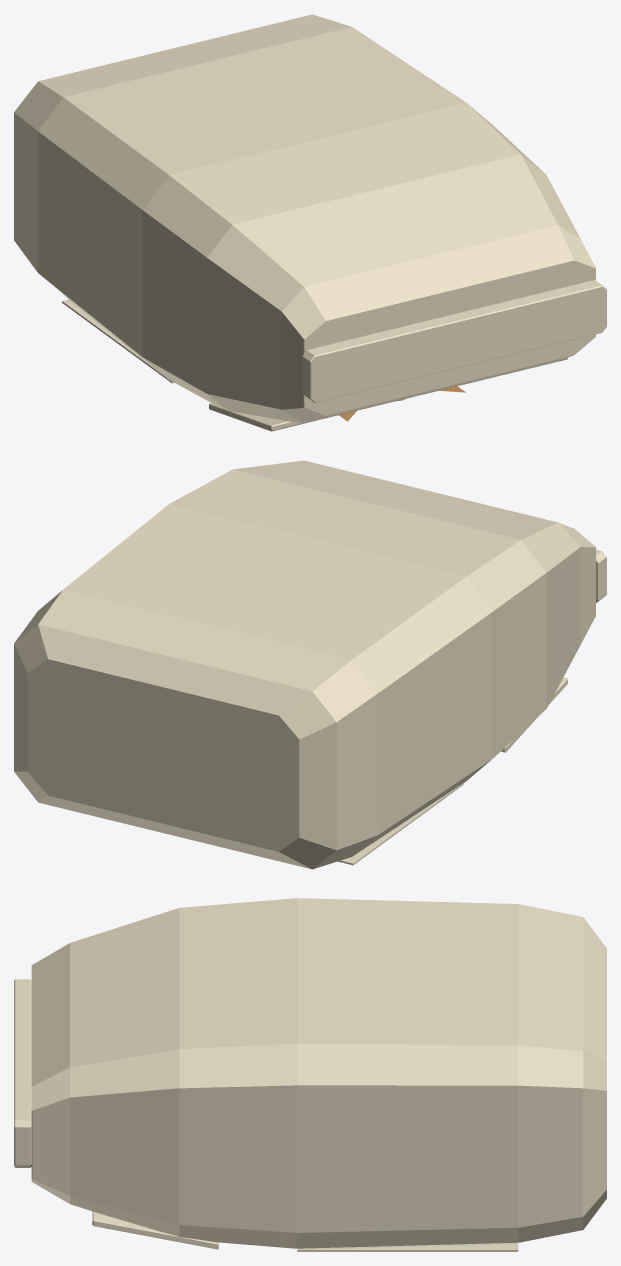
File: caramels.glb
The picture shows the model from 3 angles, top to bottom: view 1: azimuth 30°, elevation 25°; view 2: azimuth 150°, elevation 25°; view 3: azimuth 270°, elevation 25°; orthographic projection.
Visible parts, largest first — view 1: caramels; view 2: caramels; view 3: caramels.
Boxes of the visible parts, x1,y1,x2,y2 form: caramels: (14,14,606,431); caramels: (14,460,606,869); caramels: (14,898,606,1251).
Bounding box in the file's own units: 0.1236 × 0.0706 × 0.1809.
